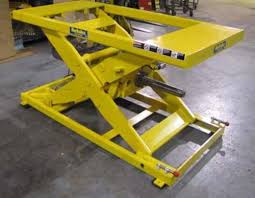Scissor Lift: (10, 1, 247, 188)
